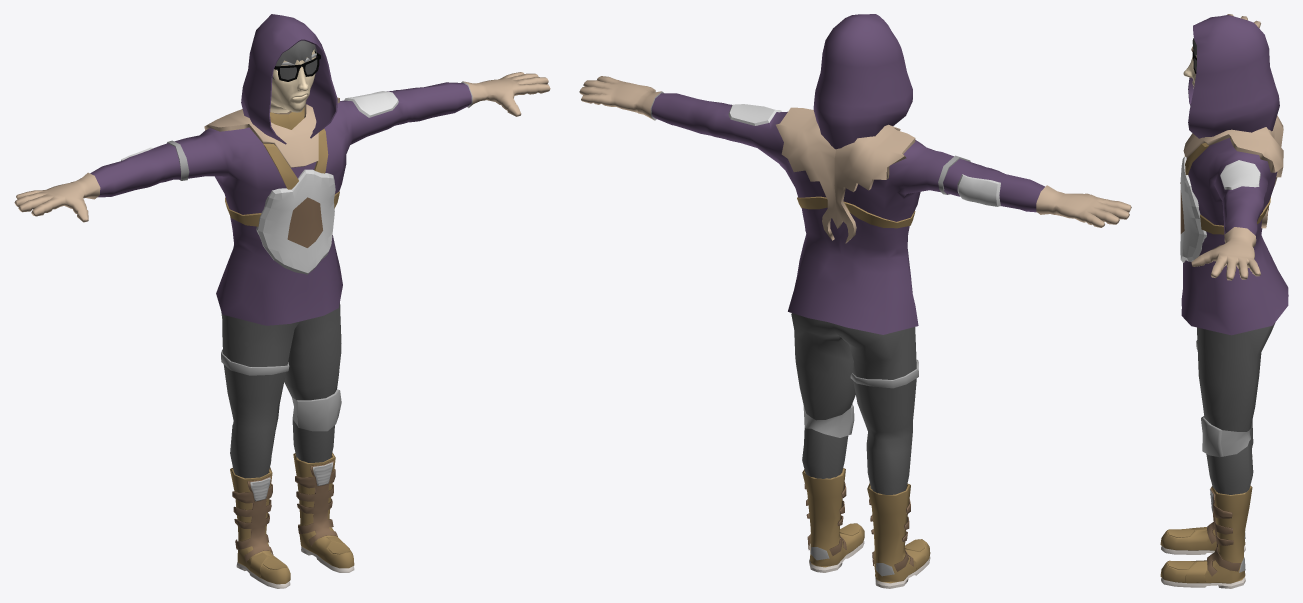
File: scaleAttempt.fbx
The picture shows the model from 3 angles, left to right: view 1: azimuth 30°, elevation 25°; view 2: azimuth 150°, elevation 25°; view 3: azimuth 270°, elevation 25°; orthographic projection. The views are drawn at different scales.
Parts seen in each view (by area): view 1: upper, lower, metalPlate1, hood, polySurface180; view 2: upper, lower, hood; view 3: upper, lower, hood, metalPlate1.
Part boxes in pixels (x1=…): upper: x1=14, y1=72, x2=550, y2=325; lower: x1=221, y1=303, x2=354, y2=588; metalPlate1: x1=256, y1=169, x2=335, y2=274; hood: x1=241, y1=14, x2=337, y2=144; polySurface180: x1=270, y1=49, x2=315, y2=113; upper: x1=579, y1=76, x2=1131, y2=334; lower: x1=791, y1=313, x2=930, y2=588; hood: x1=813, y1=14, x2=912, y2=149; upper: x1=1181, y1=14, x2=1288, y2=335; lower: x1=1160, y1=322, x2=1275, y2=588; hood: x1=1188, y1=15, x2=1279, y2=138; metalPlate1: x1=1180, y1=156, x2=1206, y2=262.
Size of the model in its own units: 96.63 by 94.54 by 19.95.
